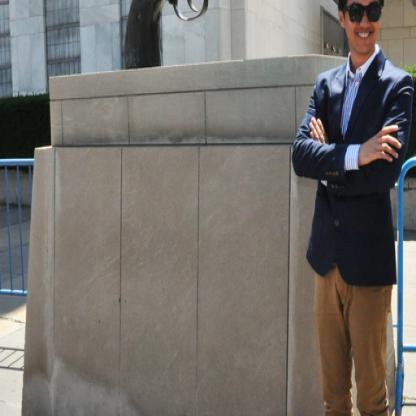gun: (120, 0, 269, 68)
